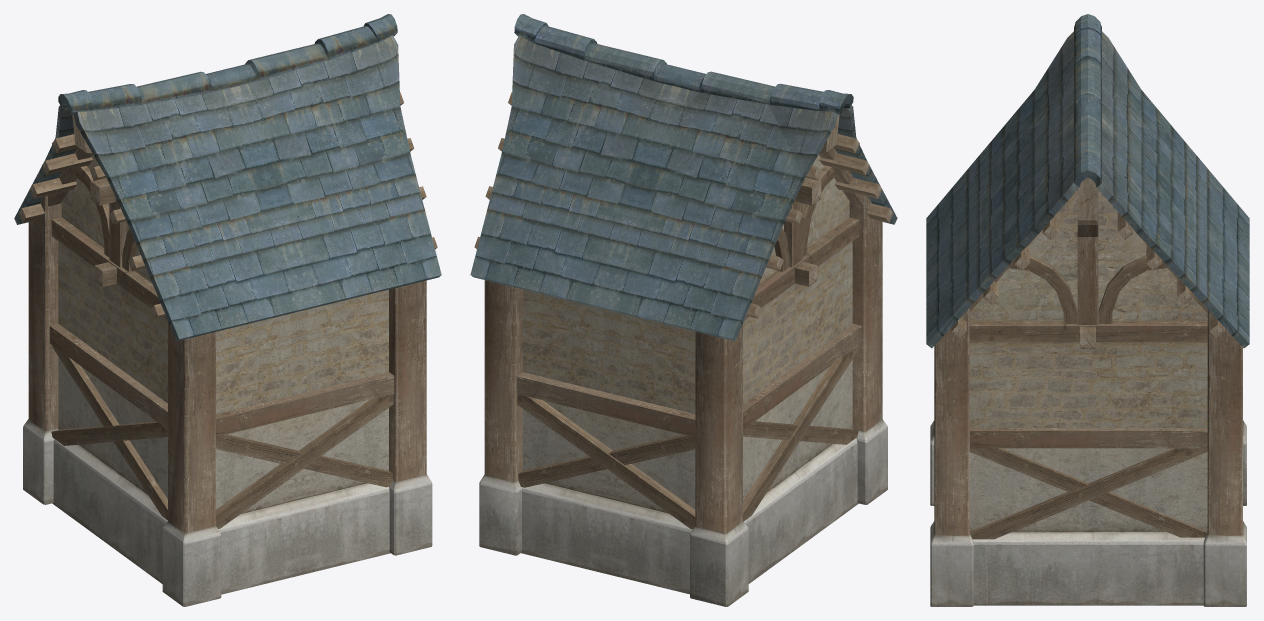
Rendered from bg_lut_lakebar_house03_sm_jjy.FBX.
3 views of the same model, side by side, from view 1: azimuth 30°, elevation 25°; view 2: azimuth 150°, elevation 25°; view 3: azimuth 270°, elevation 25° (orthographic).
Visible parts, largest first — view 1: bg_lut_lakebar_house03_sm_jjy; view 2: bg_lut_lakebar_house03_sm_jjy; view 3: bg_lut_lakebar_house03_sm_jjy.
Boxes of the visible parts, x1,y1,x2,y2 form: bg_lut_lakebar_house03_sm_jjy: (14, 14, 441, 606); bg_lut_lakebar_house03_sm_jjy: (470, 14, 897, 606); bg_lut_lakebar_house03_sm_jjy: (926, 14, 1249, 606).
Size of the model in its own units: 283 by 384 by 247.
